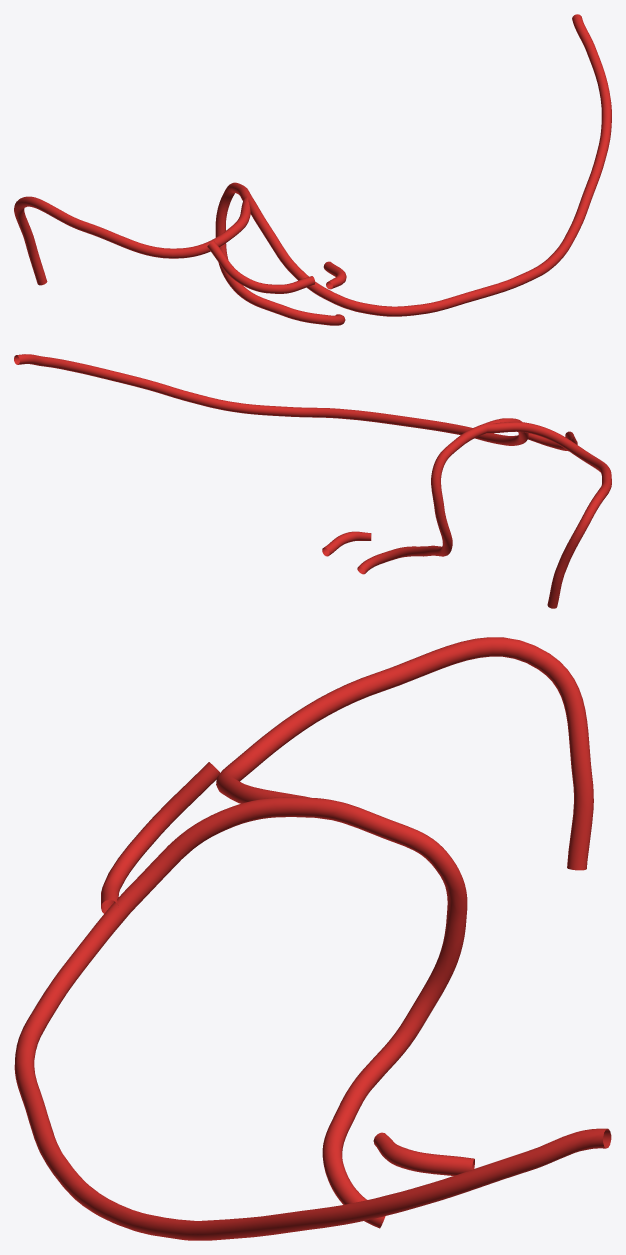
File: circulatorio-inferior-pancreaticoduodenal-artery.glb
3 views of the same model, one above another, from view 1: azimuth 30°, elevation 25°; view 2: azimuth 150°, elevation 25°; view 3: azimuth 270°, elevation 25° (orthographic). The views are drawn at different scales.
Visible parts, largest first — view 1: Anterior inferior pancreaticoduodenal artery; view 2: Anterior inferior pancreaticoduodenal artery, Inferior pancreaticoduodenal artery; view 3: Anterior inferior pancreaticoduodenal artery, Inferior pancreaticoduodenal artery.
Boxes of the visible parts, x1=… form: Anterior inferior pancreaticoduodenal artery: x1=14, y1=14, x2=611, y2=325; Anterior inferior pancreaticoduodenal artery: x1=14, y1=354, x2=611, y2=608; Inferior pancreaticoduodenal artery: x1=322, y1=531, x2=371, y2=556; Anterior inferior pancreaticoduodenal artery: x1=14, y1=637, x2=611, y2=1240; Inferior pancreaticoduodenal artery: x1=373, y1=1132, x2=474, y2=1175.
Size of the model in its own units: 0.1306 by 0.042 by 0.0598.
